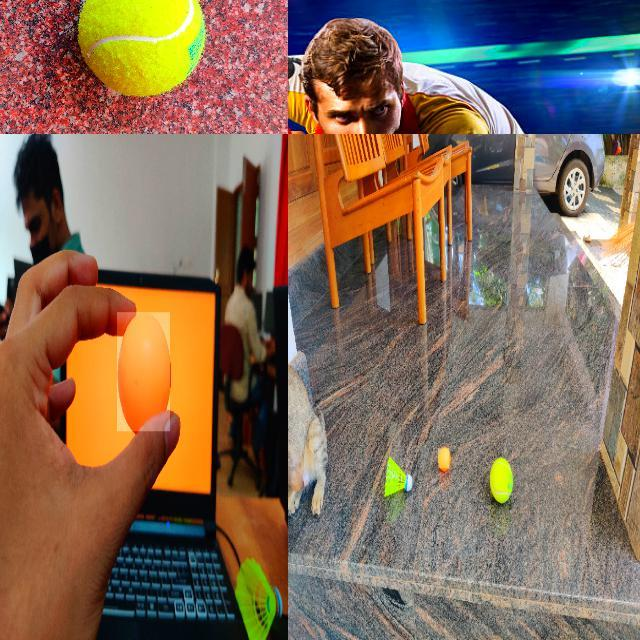ping-pong-ball: (117, 312, 170, 432), (438, 448, 450, 470)
